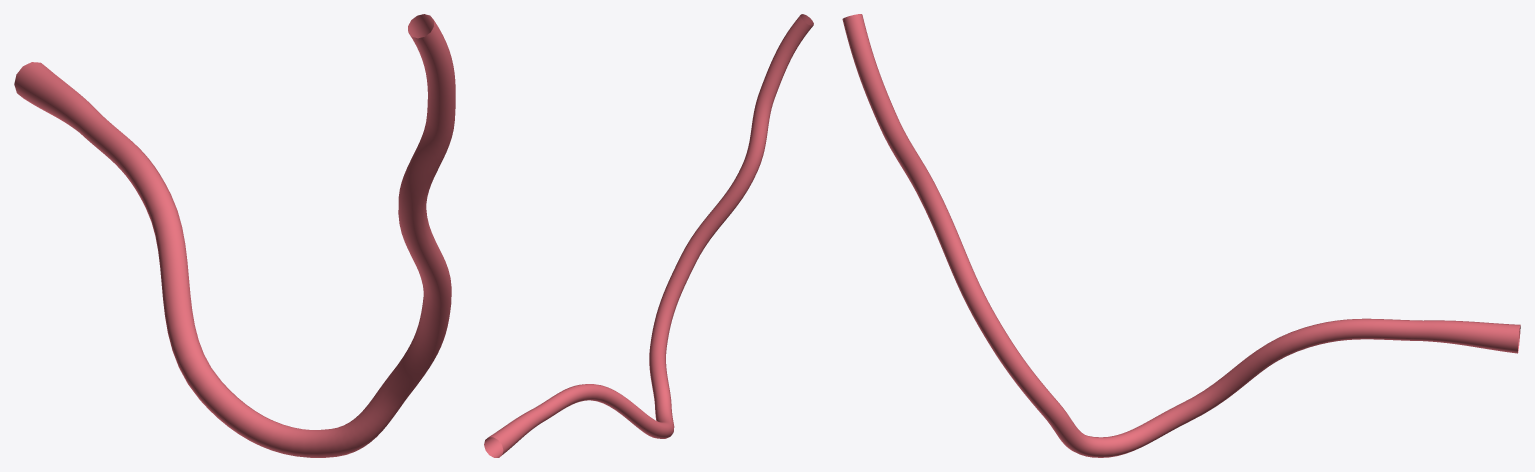
The picture shows the model from 3 angles, left to right: view 1: azimuth 30°, elevation 25°; view 2: azimuth 150°, elevation 25°; view 3: azimuth 270°, elevation 25°; orthographic projection. The views are drawn at different scales.
Visible parts, largest first — view 1: ZA_77be088c4c3307dd; view 2: ZA_77be088c4c3307dd; view 3: ZA_77be088c4c3307dd.
Part boxes in pixels (x1,y1,x2,y2): ZA_77be088c4c3307dd: [14, 14, 455, 457]; ZA_77be088c4c3307dd: [484, 14, 813, 457]; ZA_77be088c4c3307dd: [842, 14, 1520, 457].
Size of the model in its own units: 0.0116 by 0.045 by 0.0655.
